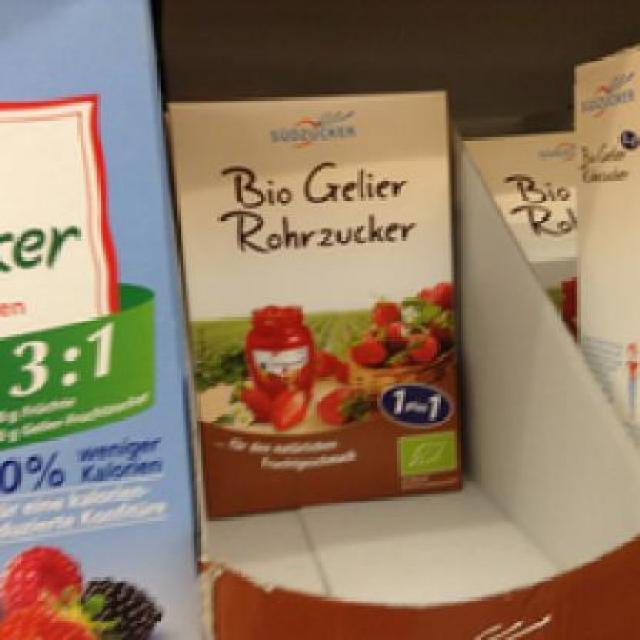Sugar: (163, 82, 466, 518)
